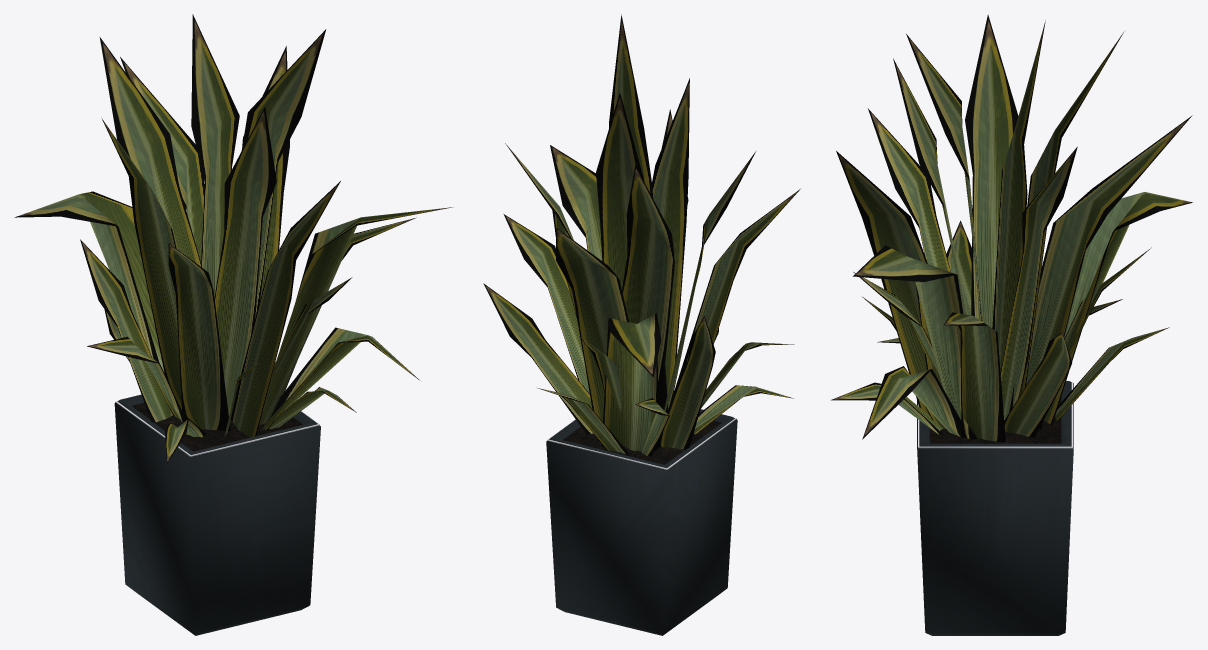
The model's file is p6_karma_pot_med_spikey_lod2.glb.
3 views of the same model, side by side, from view 1: azimuth 30°, elevation 25°; view 2: azimuth 150°, elevation 25°; view 3: azimuth 270°, elevation 25° (orthographic). The views are drawn at different scales.
Visible parts, largest first — view 1: surf0, surf2, surf3; view 2: surf0, surf2, surf3, surf1; view 3: surf0, surf2, surf3, surf1.
Part boxes in pixels (x1,y1,x2,y2): surf0: [14, 14, 453, 463]; surf2: [114, 394, 320, 635]; surf3: [132, 403, 302, 451]; surf0: [483, 14, 800, 456]; surf2: [546, 409, 737, 635]; surf3: [563, 420, 721, 464]; surf1: [547, 417, 736, 469]; surf0: [831, 14, 1192, 442]; surf2: [917, 381, 1073, 635]; surf3: [929, 397, 1061, 443]; surf1: [918, 381, 1072, 448].
Bounding box in the file's own units: 42.73 × 74.35 × 40.17.
